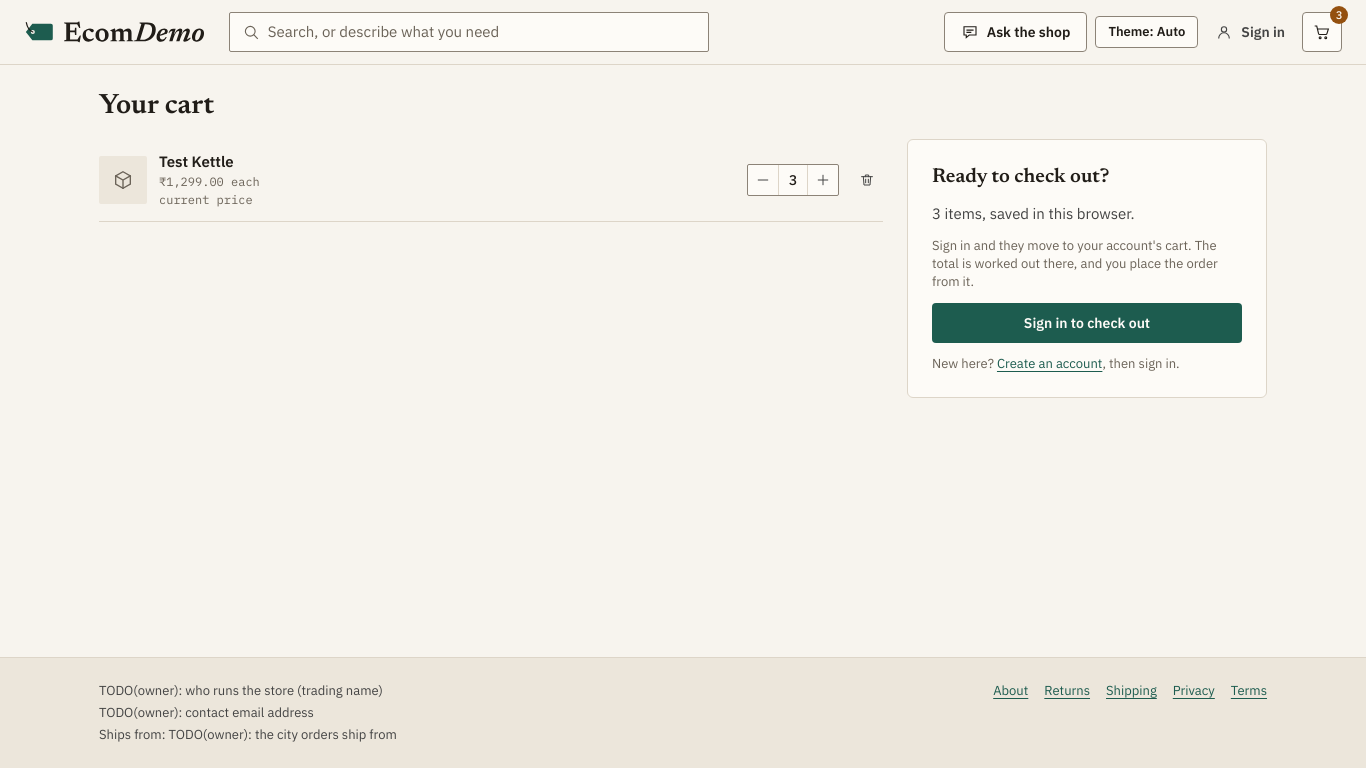
Test case: the guest cart page › removes a line, and Undo puts it back with its quantity
The width and height of the screenshot is (1366, 768).
expect the heading "Your cart" is shown: met, box [99,89,214,123]
Click the button named "Remove Test Kettle": [867, 180] box [851,164,883,196]
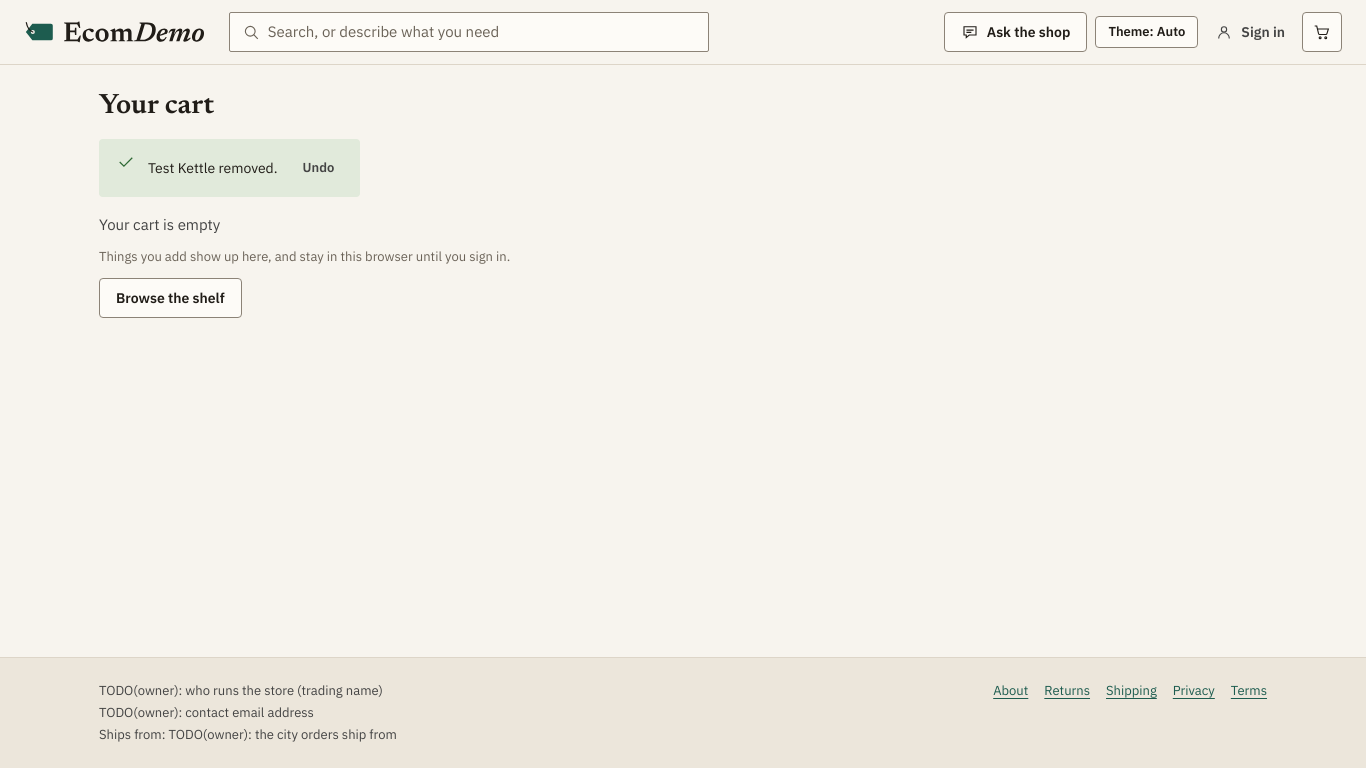
expect the text "Test Kettle removed." is shown: met, box [148,158,278,178]
expect the text "Your cart is empty" is shown: met, box [99,213,220,236]
Click the button "Undo": [318, 168] box [294,152,343,184]
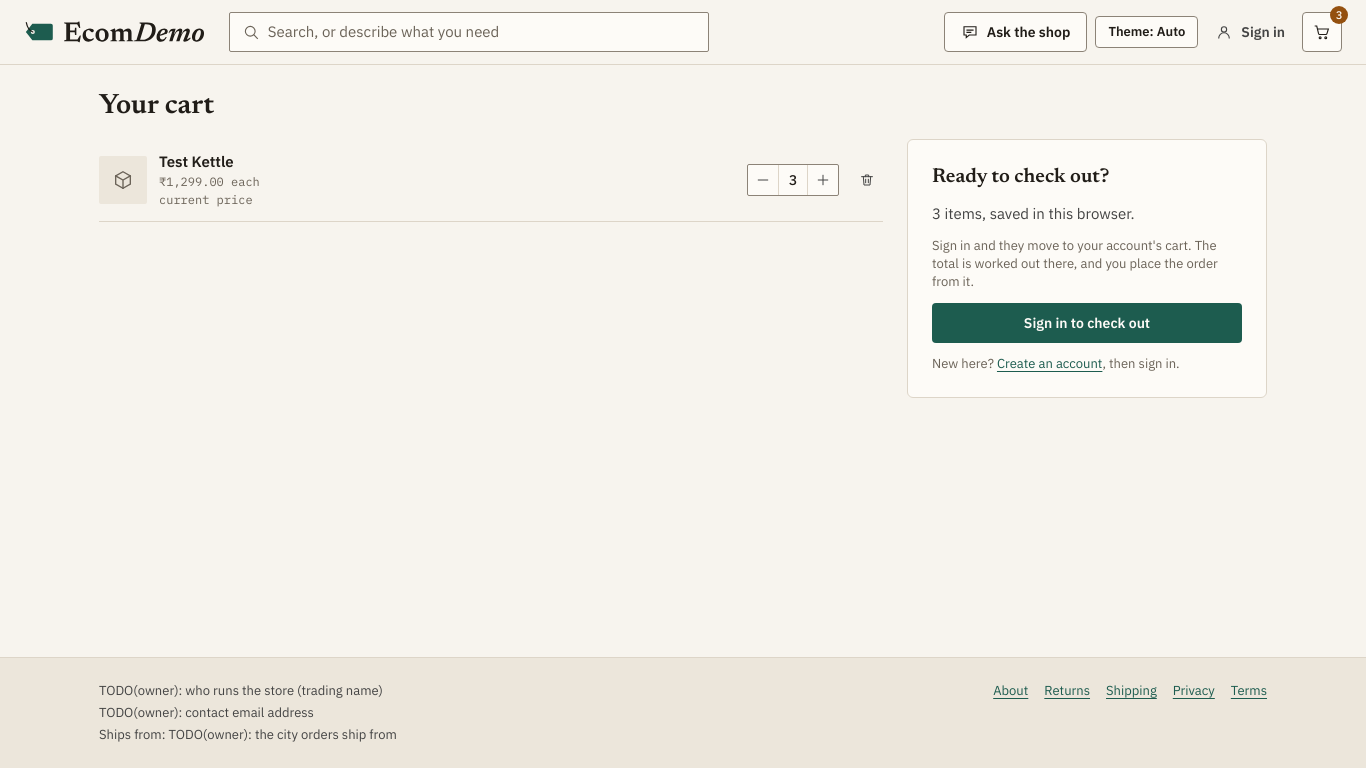
expect the text "Test Kettle" is shown: met, box [159,152,234,171]
expect the text "Test Kettle removed." is gone: met
